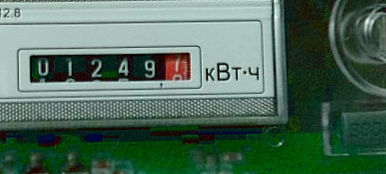0: (35, 56, 50, 76)
1: (62, 55, 75, 77)
2: (87, 56, 104, 78)
4: (116, 56, 130, 76)
7: (170, 52, 184, 72)
9: (142, 57, 156, 78)
screen: (13, 40, 205, 93)
